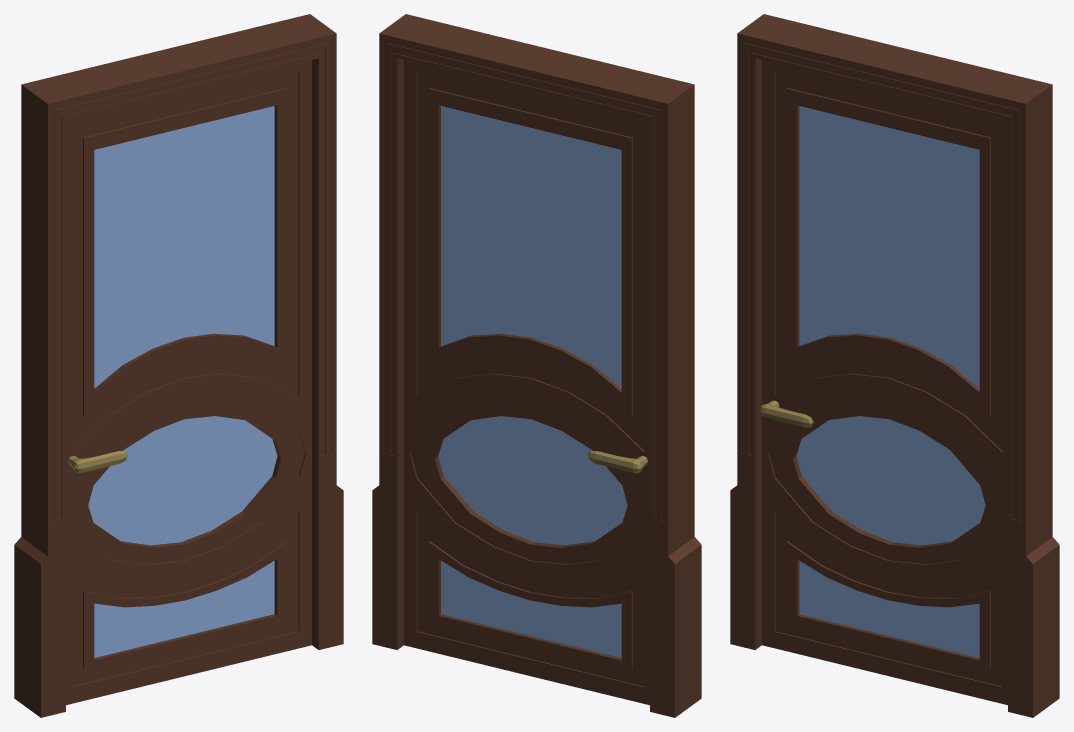
Rendered from Door1.glb.
3 renders of one model, left to right at view 1: azimuth 30°, elevation 25°; view 2: azimuth 150°, elevation 25°; view 3: azimuth 330°, elevation 25°, orthographic.
Visible parts, largest first — view 1: Door, DoorFrame, DoorHandle; view 2: Door, DoorFrame, DoorHandle; view 3: Door, DoorFrame, DoorHandle.
Boxes of the visible parts, bbox=[...] form: Door: bbox=[66, 60, 311, 705]; DoorFrame: bbox=[14, 14, 343, 717]; DoorHandle: bbox=[68, 451, 127, 473]; Door: bbox=[404, 60, 649, 705]; DoorFrame: bbox=[372, 14, 701, 717]; DoorHandle: bbox=[588, 451, 647, 473]; Door: bbox=[762, 60, 1007, 705]; DoorFrame: bbox=[730, 14, 1059, 717]; DoorHandle: bbox=[760, 400, 813, 427].
Size of the model in its own units: 1.59 by 3.08 by 0.3199.
